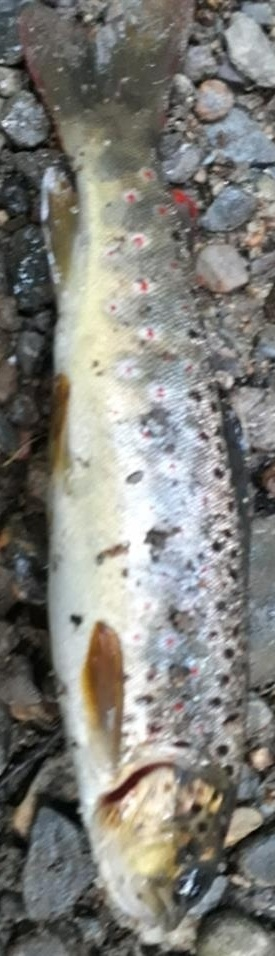Salmo trutta subsp. fario: (20, 1, 255, 936)
